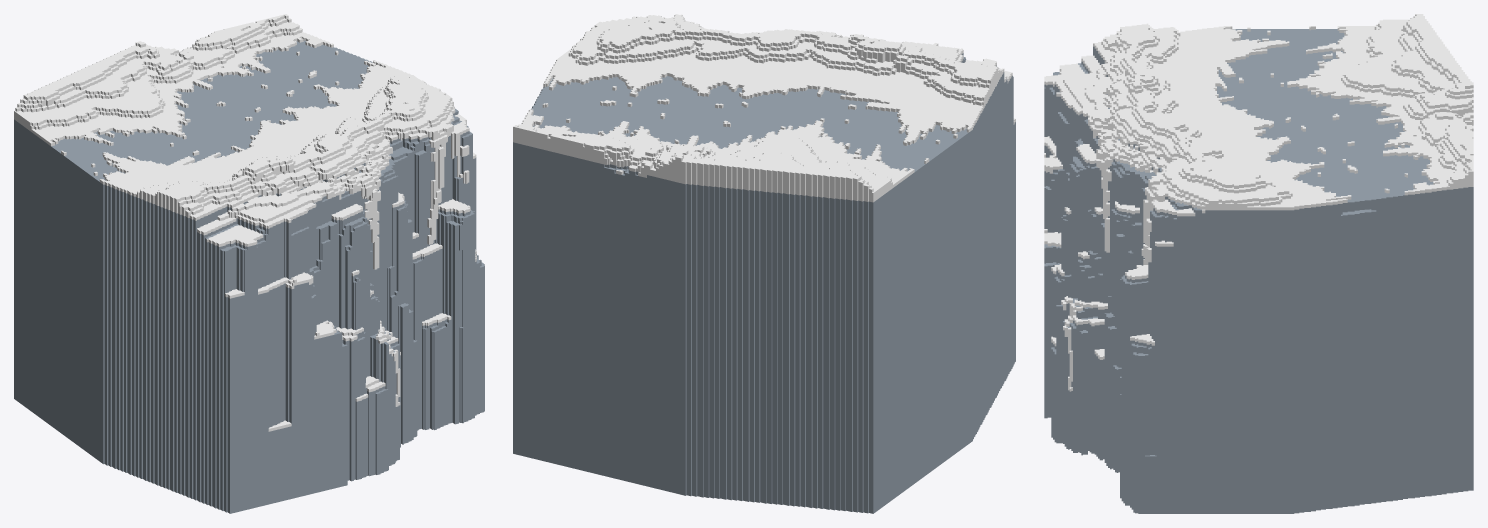
Rendered from factory4.1-3.obj.
The picture shows the model from 3 angles, left to right: view 1: azimuth 30°, elevation 25°; view 2: azimuth 150°, elevation 25°; view 3: azimuth 270°, elevation 25°; orthographic projection. The views are drawn at different scales.
Size of the model in its own units: 25.6 by 21.6 by 25.6.
Materials: 1 (1 with a texture image).
